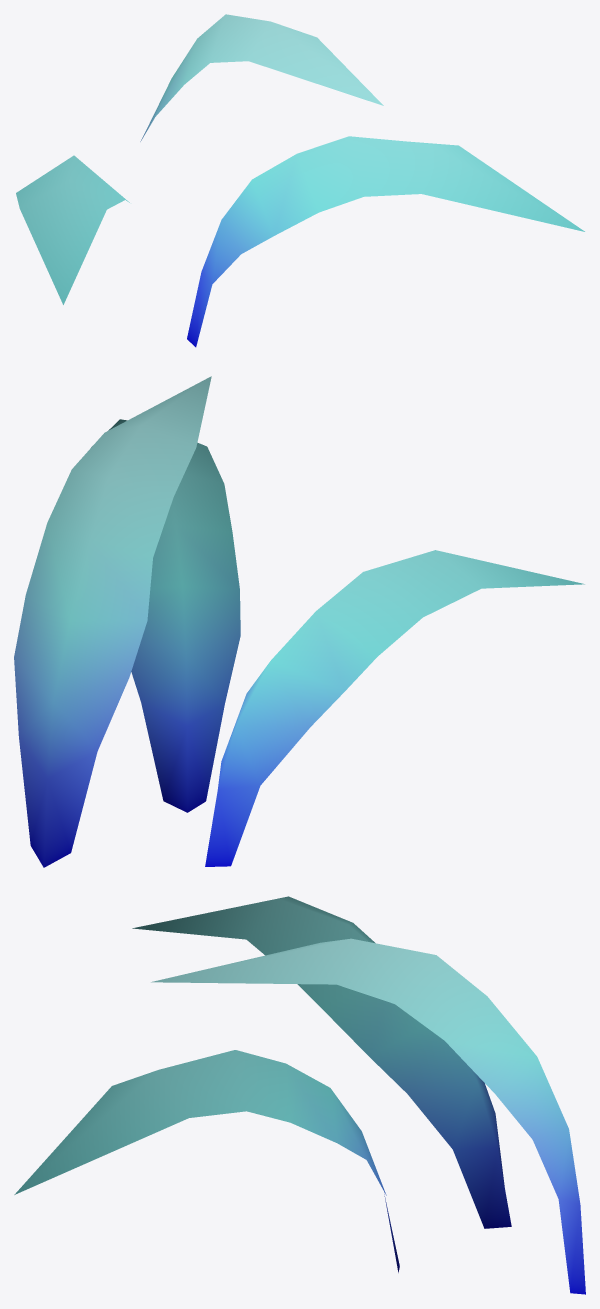
Rendered from SM_Env_Fern_Part_03.glb.
3 views of the same model, one above another, from view 1: azimuth 30°, elevation 25°; view 2: azimuth 150°, elevation 25°; view 3: azimuth 270°, elevation 25° (orthographic). The views are drawn at different scales.
Parts seen in each view (by area): view 1: SM_Env_Fern_Part_03_LOD0; view 2: SM_Env_Fern_Part_03_LOD0; view 3: SM_Env_Fern_Part_03_LOD0.
Boxes of the visible parts, bbox=[...] form: SM_Env_Fern_Part_03_LOD0: bbox=[16, 14, 584, 347]; SM_Env_Fern_Part_03_LOD0: bbox=[14, 376, 584, 867]; SM_Env_Fern_Part_03_LOD0: bbox=[14, 896, 585, 1294].
Size of what is drawn, in the model's own units: 2.13 by 1.38 by 1.96.
